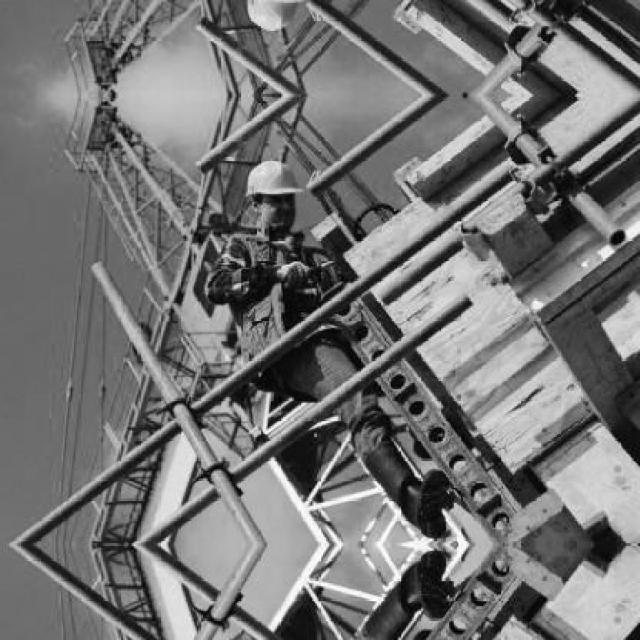hat: (242, 152, 302, 227), (240, 0, 302, 37)
